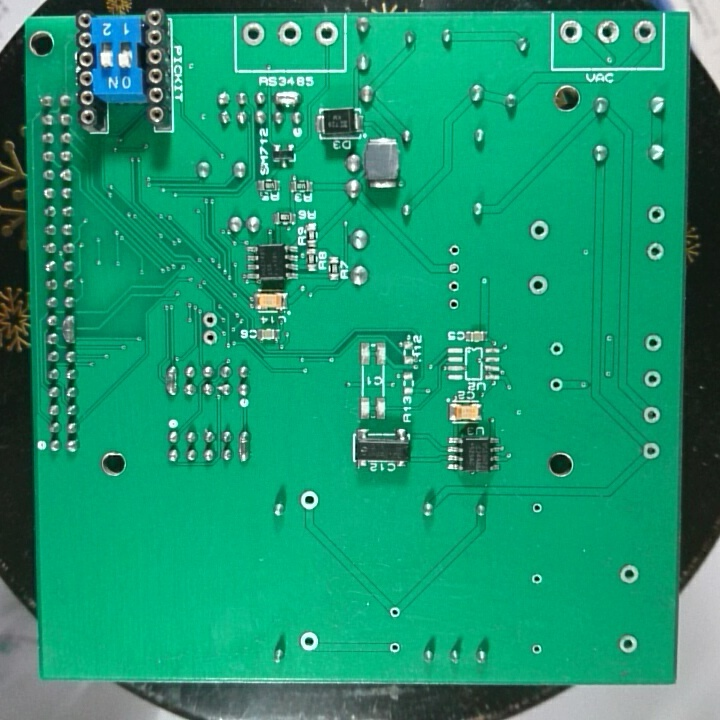F: (629, 17, 659, 49), (276, 17, 304, 46), (311, 18, 339, 47), (594, 16, 621, 46), (240, 19, 267, 48), (558, 17, 587, 43), (527, 216, 551, 245), (526, 271, 550, 299), (617, 560, 641, 587), (297, 628, 321, 655), (616, 631, 639, 657), (641, 438, 664, 462), (297, 488, 320, 512), (644, 202, 665, 226), (642, 366, 662, 391), (645, 238, 664, 264), (642, 329, 663, 352), (641, 402, 662, 425), (547, 374, 565, 398), (547, 338, 567, 359), (201, 328, 220, 348), (200, 309, 219, 329), (445, 276, 463, 295), (445, 292, 462, 312), (445, 240, 463, 258), (445, 260, 463, 278), (386, 603, 404, 620), (529, 499, 545, 518), (386, 639, 403, 656), (529, 640, 545, 658), (529, 572, 545, 586)
P: (59, 312, 78, 346), (162, 360, 179, 398), (272, 88, 302, 108), (236, 426, 251, 465)
